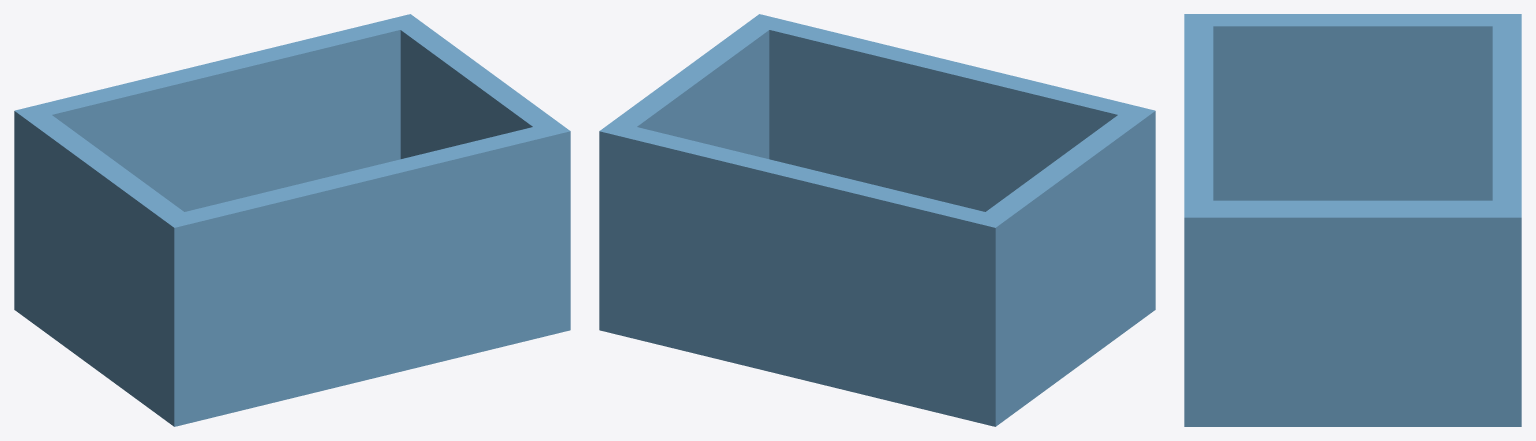
Rendered from Tote.glb.
The picture shows the model from 3 angles, left to right: view 1: azimuth 30°, elevation 25°; view 2: azimuth 150°, elevation 25°; view 3: azimuth 270°, elevation 25°; orthographic projection. The views are drawn at different scales.
Visible parts, largest first — view 1: WallF, WallB, WallL, Floor, WallR; view 2: WallB, WallF, WallL, Floor, WallR; view 3: WallR, WallL, Floor, WallB, WallF.
Boxes of the visible parts, left/top/right/bottom form: WallF: left=160, top=121, right=570, bottom=409; WallB: left=14, top=14, right=423, bottom=302; WallL: left=14, top=110, right=198, bottom=409; Floor: left=14, top=277, right=570, bottom=426; WallR: left=389, top=15, right=570, bottom=313; WallB: left=599, top=121, right=1009, bottom=408; WallF: left=746, top=14, right=1155, bottom=284; WallL: left=972, top=111, right=1155, bottom=407; Floor: left=599, top=277, right=1155, bottom=426; WallR: left=599, top=14, right=776, bottom=315; WallR: left=1184, top=205, right=1521, bottom=409; WallL: left=1184, top=14, right=1521, bottom=200; Floor: left=1184, top=200, right=1521, bottom=426; WallB: left=1492, top=14, right=1521, bottom=409; WallF: left=1184, top=14, right=1213, bottom=409.
Size of the model in its own units: 0.5 by 0.24 by 0.35.
